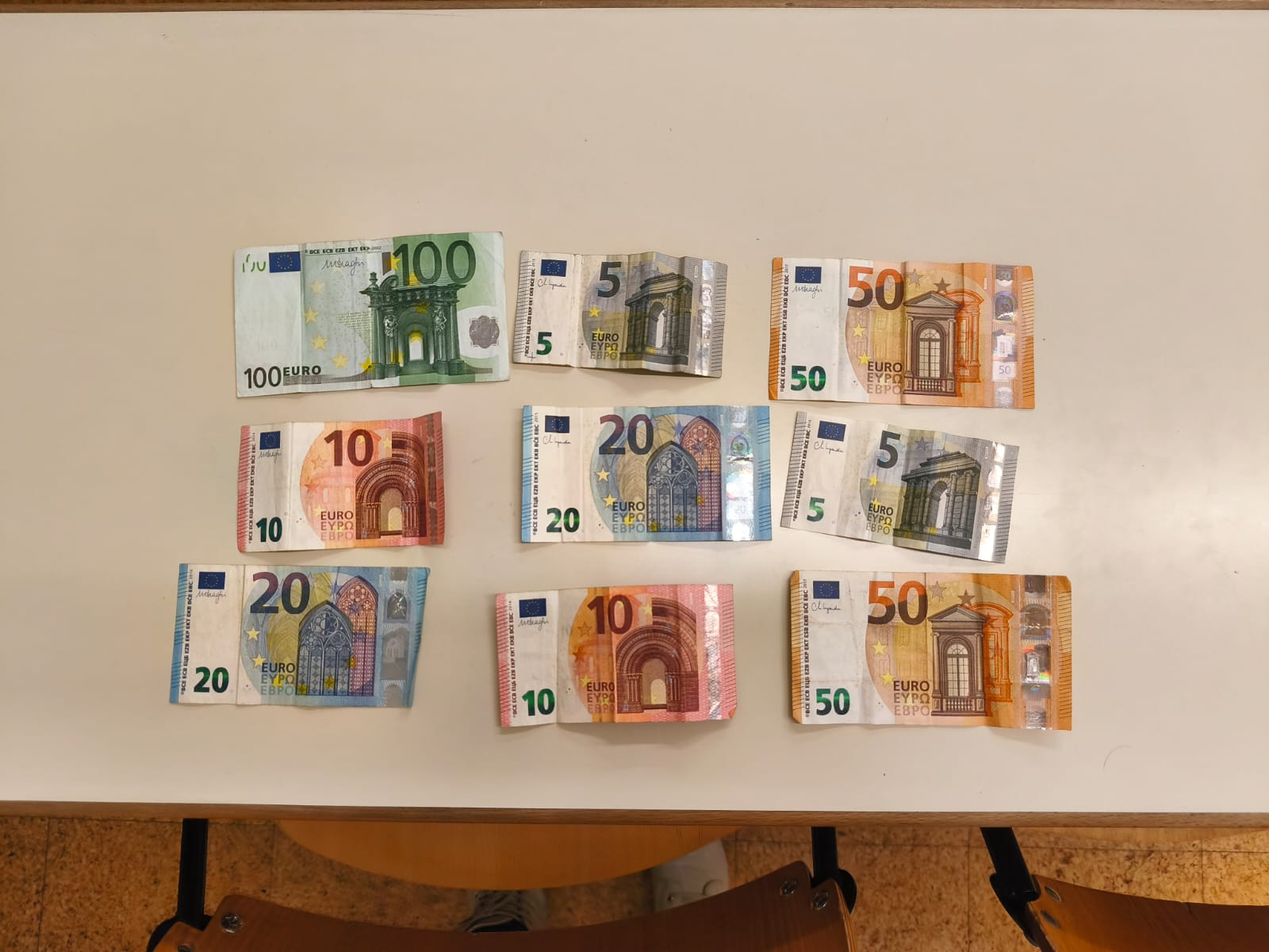Nota de 100€: (230, 244, 503, 397)
Nota de 10€: (493, 588, 736, 730), (235, 418, 447, 555)
Nota de 20€: (169, 562, 435, 706), (520, 403, 776, 545)
Nota de 50€: (787, 569, 1075, 733), (772, 253, 1041, 400)
Nota de 5€: (797, 407, 1027, 533), (521, 241, 733, 364)
